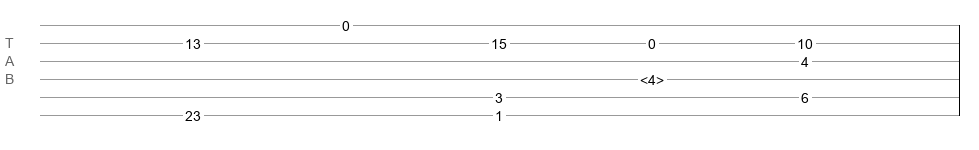0: (342, 18, 350, 28), (648, 36, 656, 46)
1: (495, 108, 503, 118)
10: (797, 36, 813, 46)
13: (185, 36, 201, 46)
15: (491, 36, 507, 46)
23: (185, 108, 201, 118)
3: (495, 90, 503, 100)
4: (801, 54, 809, 64)
6: (801, 90, 809, 100)
harmonic: (640, 72, 664, 82)
